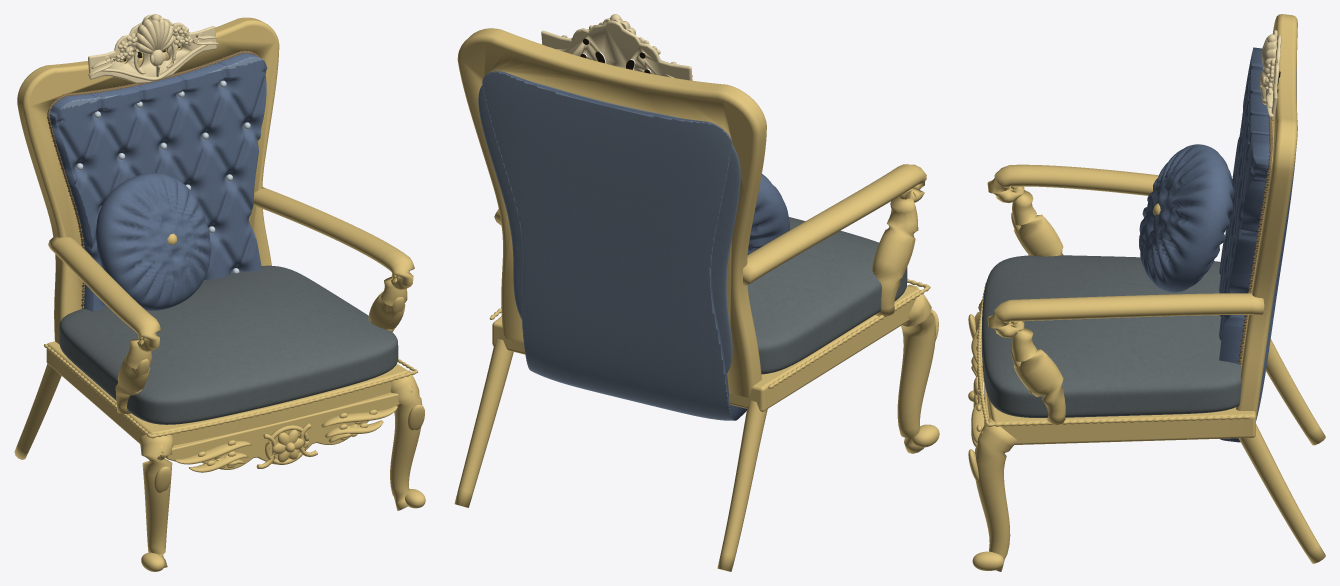
The model's file is aventure-royal-sofa-set--arm.glb.
3 renders of one model, left to right at view 1: azimuth 30°, elevation 25°; view 2: azimuth 150°, elevation 25°; view 3: azimuth 270°, elevation 25°, orthographic. The views are drawn at different scales.
Visible parts, largest first — view 1: seat, back, backframe, roundcushion, seatrail, armrest1, apron, armrest-1, legf-1, legf1, crest_plate, beads (+9 smaller); view 2: back, backframe, seat, backcover, armrest-1, seatrail, legf-1, crest_plate, armpost-1, legb1, legb-1, roundcushion (+1 smaller); view 3: seat, roundcushion, backframe, back, armrest1, seatrail, armrest-1, legf1, legb1, armpost1, armpost-1, legb-1 (+4 smaller).
Part boxes in pixels (<box>): seat: <box>59,265,398,424</box>; back: <box>49,53,267,311</box>; backframe: <box>17,17,279,344</box>; roundcushion: <box>95,173,211,310</box>; seatrail: <box>46,341,407,445</box>; armrest1: <box>253,187,414,289</box>; apron: <box>165,392,399,469</box>; armrest-1: <box>48,236,161,351</box>; legf-1: <box>139,432,173,567</box>; legf1: <box>390,370,422,510</box>; crest_plate: <box>88,14,216,83</box>; beads: <box>44,344,417,438</box>; back: <box>482,71,746,420</box>; backframe: <box>457,28,766,397</box>; seat: <box>747,217,907,374</box>; backcover: <box>478,81,740,372</box>; armrest-1: <box>743,164,926,285</box>; seatrail: <box>492,286,919,411</box>; legf-1: <box>897,284,935,453</box>; crest_plate: <box>541,20,692,80</box>; armpost-1: <box>872,197,918,316</box>; legb1: <box>454,339,513,507</box>; legb-1: <box>717,400,767,571</box>; roundcushion: <box>747,174,789,254</box>; seat: <box>982,255,1241,417</box>; roundcushion: <box>1139,144,1233,292</box>; backframe: <box>1236,14,1297,419</box>; back: <box>1219,47,1296,442</box>; armrest1: <box>987,293,1264,338</box>; seatrail: <box>986,392,1255,444</box>; armrest-1: <box>987,164,1158,203</box>; legf1: <box>974,417,1017,571</box>; legb1: <box>1238,424,1325,563</box>; armpost1: <box>1012,327,1065,424</box>; armpost-1: <box>1012,190,1063,256</box>; legb-1: <box>1266,339,1325,445</box>.
Size of the model in its own units: 0.7849 by 1.16 by 0.7948.
8 materials, 3 textured.
